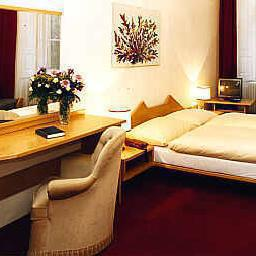Cama: (137, 100, 255, 185)
